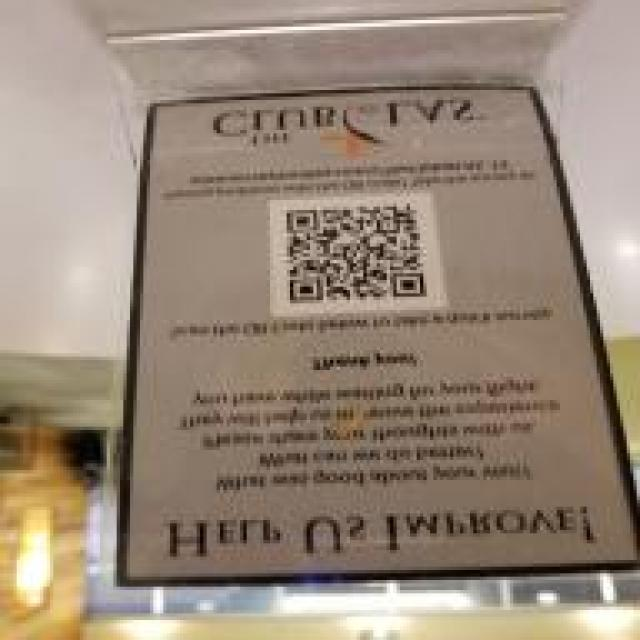qr_code: (286, 203, 427, 303)
